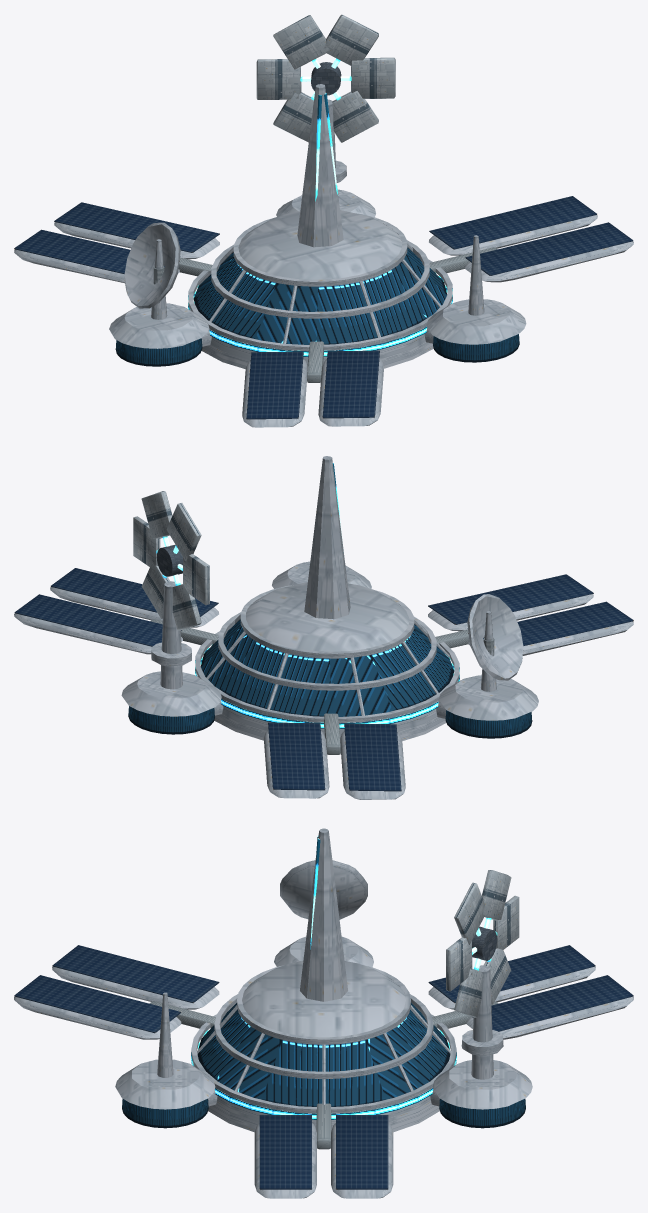
File: alliance_research_outpost_recreated_lod1.glb
3 views of the same model, one above another, from view 1: azimuth 30°, elevation 25°; view 2: azimuth 150°, elevation 25°; view 3: azimuth 270°, elevation 25° (orthographic). The views are drawn at different scales.
Visible parts, largest first — view 1: alliance_research_outpost_lod_source; view 2: alliance_research_outpost_lod_source; view 3: alliance_research_outpost_lod_source.
Boxes of the visible parts, bbox=[...] form: alliance_research_outpost_lod_source: bbox=[14, 14, 633, 427]; alliance_research_outpost_lod_source: bbox=[14, 456, 633, 799]; alliance_research_outpost_lod_source: bbox=[14, 828, 633, 1198].
Bounding box in the file's own units: 7.36 × 3.37 × 7.58.
1 material, 1 textured.
